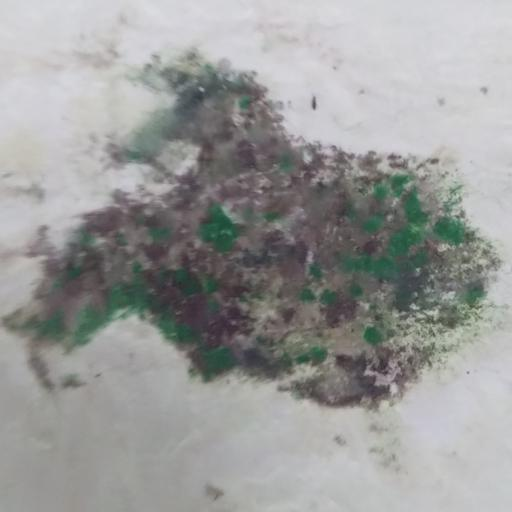algae: (27, 51, 500, 469)
